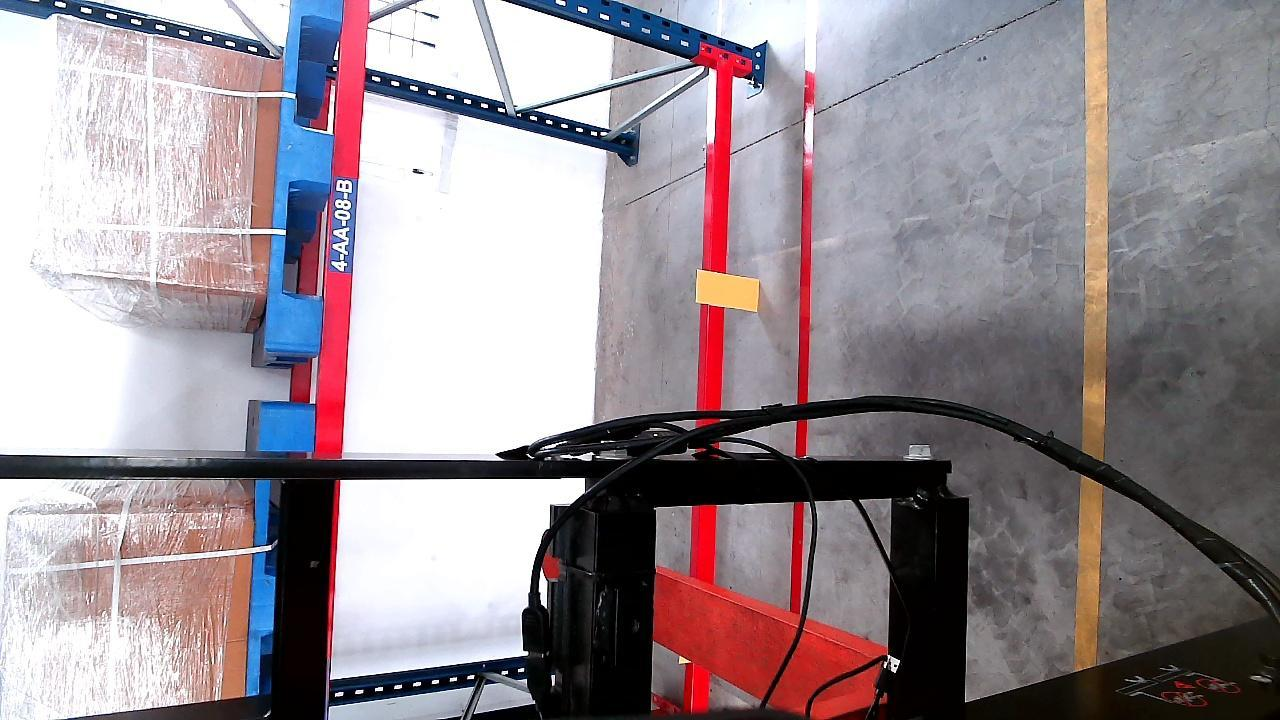red_line: (790, 2, 820, 613)
yellow_line: (1077, 0, 1105, 669)
